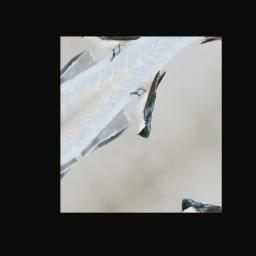Swallow: (117, 64, 188, 145)
